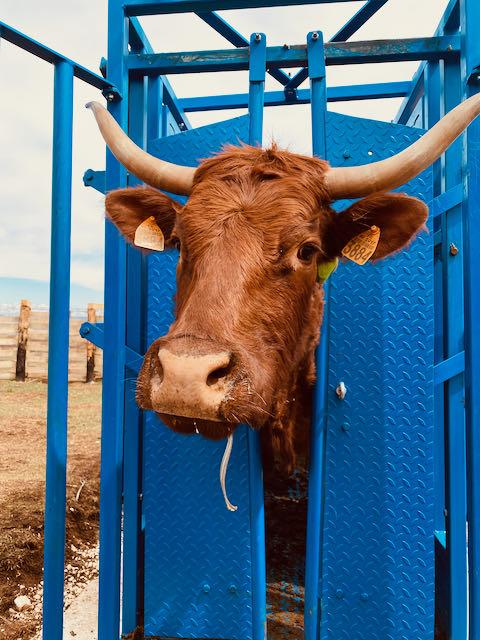muzzles: (131, 340, 264, 438)
